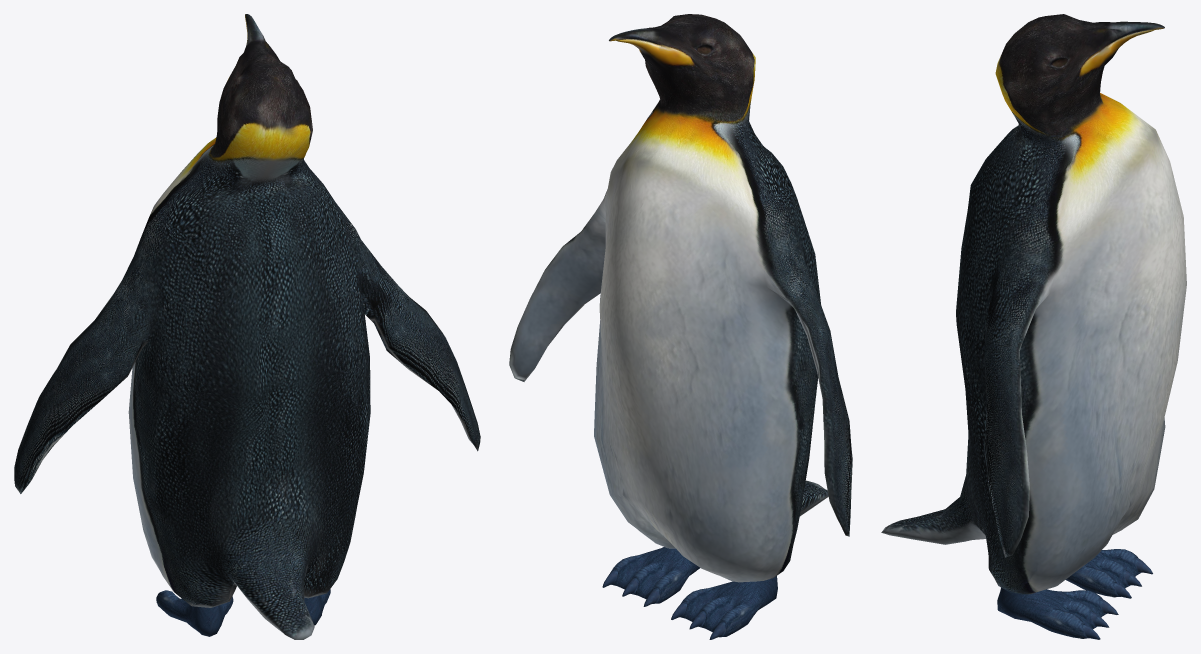
The picture shows the model from 3 angles, left to right: view 1: azimuth 30°, elevation 25°; view 2: azimuth 150°, elevation 25°; view 3: azimuth 270°, elevation 25°; orthographic projection. The views are drawn at different scales.
Parts seen in each view (by area): view 1: penguin.009_penguin.011; view 2: penguin.009_penguin.011; view 3: penguin.009_penguin.011.
Part boxes in pixels (x1,y1,x2,y2): penguin.009_penguin.011: (14, 14, 480, 639); penguin.009_penguin.011: (509, 14, 852, 639); penguin.009_penguin.011: (881, 14, 1186, 639).
Bounding box in the file's own units: 17.87 × 24.34 × 11.3.
